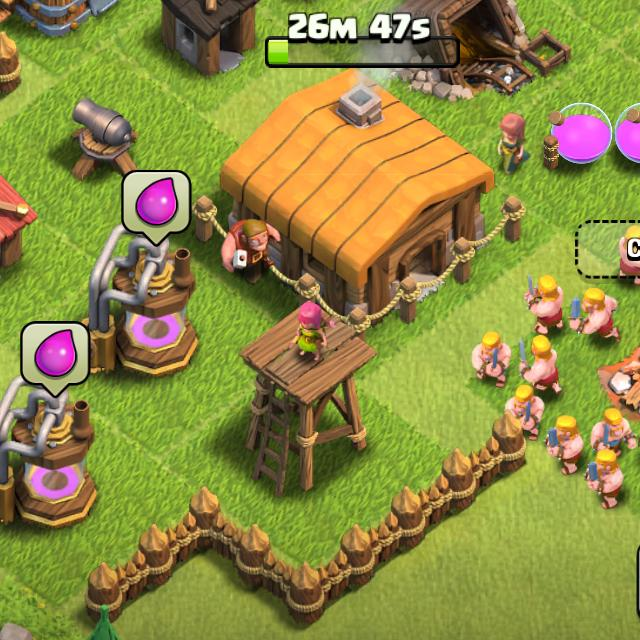Elixir: (21, 319, 89, 398), (124, 170, 192, 248)
